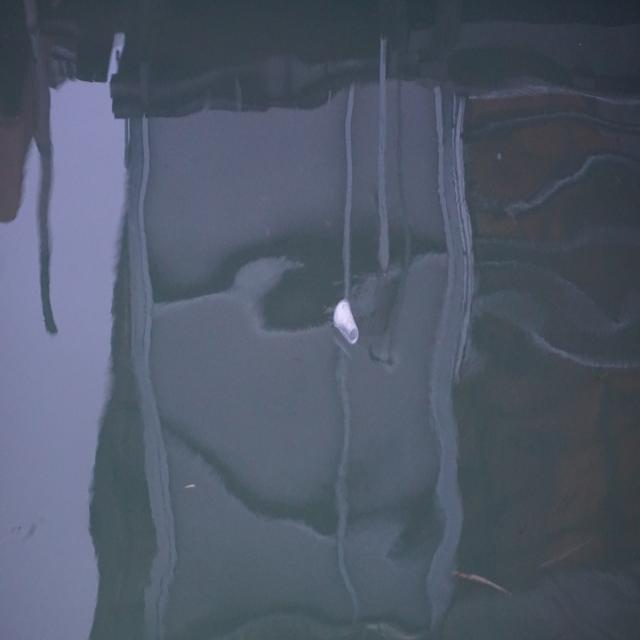Bungkus Minuman: (333, 293, 362, 352)
